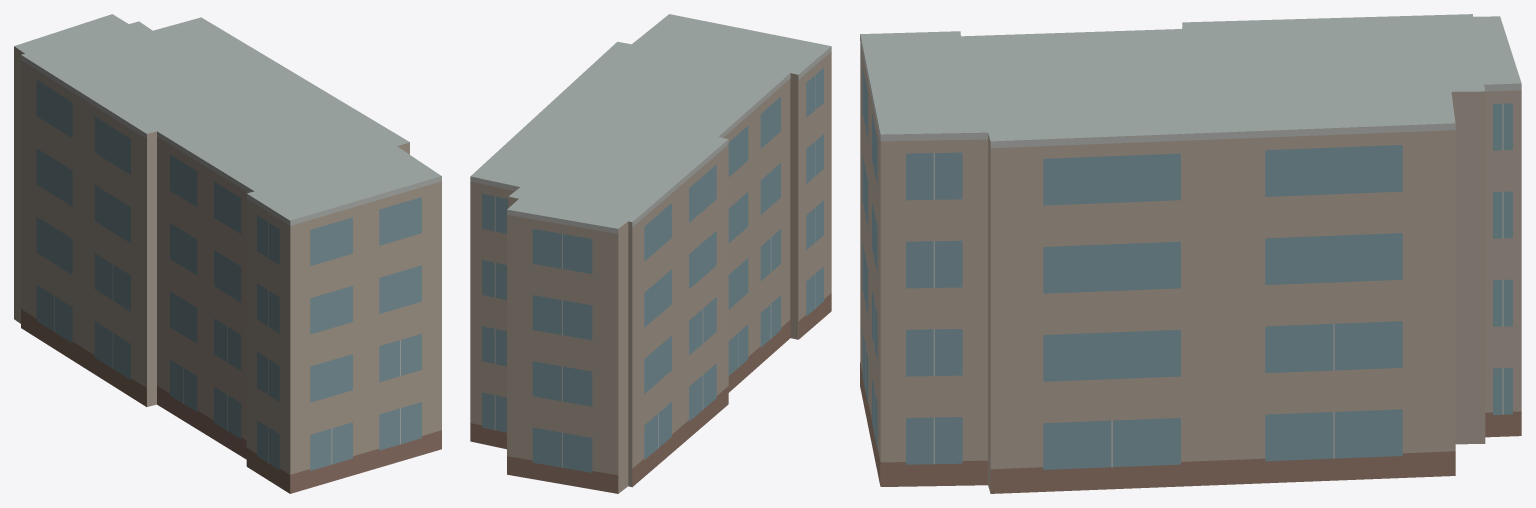
File: survey-upis-32665716.glb
3 views of the same model, side by side, from view 1: azimuth 30°, elevation 25°; view 2: azimuth 150°, elevation 25°; view 3: azimuth 270°, elevation 25° (orthographic). The views are drawn at different scales.
Parts seen in each view (by area): view 1: survey-upis-32665716.tmp; view 2: survey-upis-32665716.tmp; view 3: survey-upis-32665716.tmp.
Boxes of the visible parts, left/top/right/bottom form: survey-upis-32665716.tmp: left=14, top=14, right=441, bottom=493; survey-upis-32665716.tmp: left=470, top=14, right=831, bottom=493; survey-upis-32665716.tmp: left=860, top=14, right=1521, bottom=493.
Bounding box in the file's own units: 9.77 × 12.6 × 21.44.
